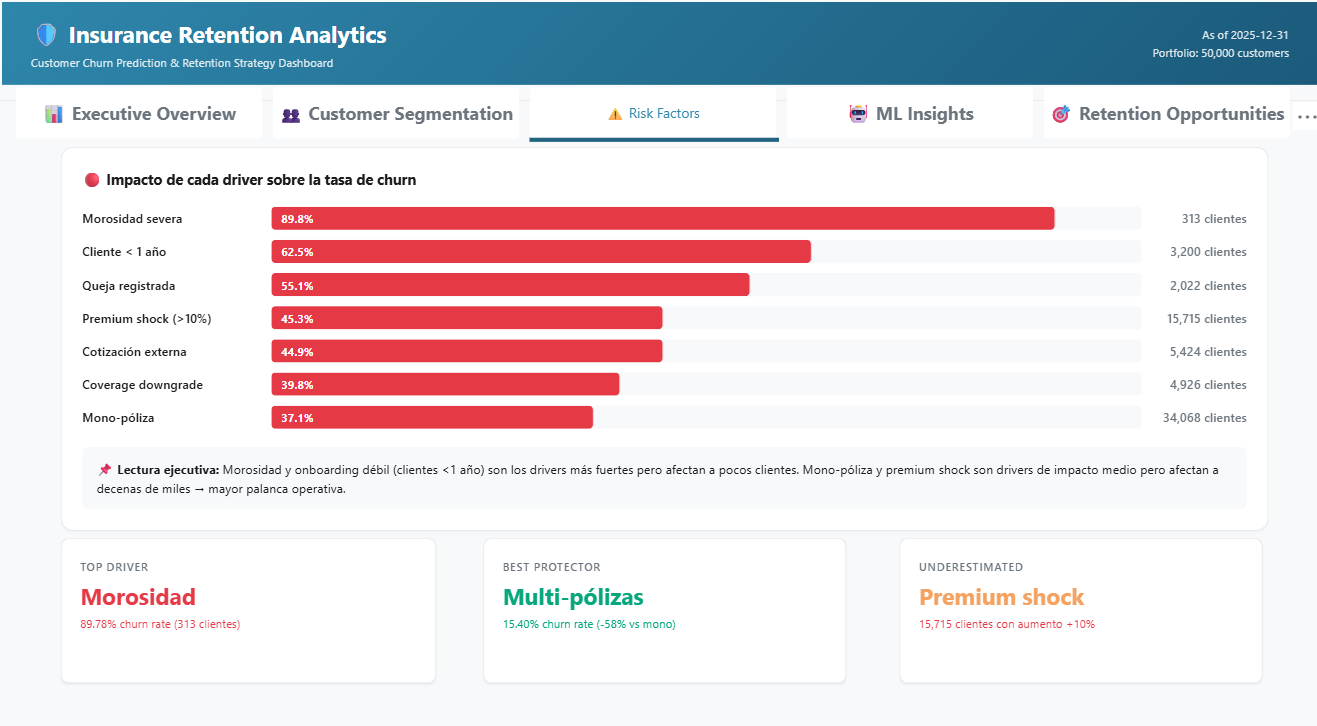

This screenshot's page, from the dashboard's own definition file:
{"tool":"powerbi","page":{"name":"⚠️ Risk Factors","canvas":[1280,720],"ordinal":2},"visuals":[{"type":"htmlContent443BE3AD55E043BF878BED274D3A6855","fields":{"content":["_Measures.HTML_PageHeader"]},"box":[0,10,1280,100],"z":0},{"type":"pageNavigator","box":[17.8,97,1233.5,50.4],"z":1000},{"type":"shape","box":[514,125,241,44],"z":2000},{"type":"htmlContent443BE3AD55E043BF878BED274D3A6855","fields":{"content":["_Measures.HTML_TopDriver"]},"box":[57,527,372,159],"z":3000},{"type":"htmlContent443BE3AD55E043BF878BED274D3A6855","fields":{"content":["_Measures.HTML_BestProtector"]},"box":[464,527,360,158],"z":4000},{"type":"htmlContent443BE3AD55E043BF878BED274D3A6855","fields":{"content":["_Measures.HTML_UnderestimatedDriver"]},"box":[866,527,360,159],"z":5000},{"type":"htmlContent443BE3AD55E043BF878BED274D3A6855","fields":{"content":["_Measures.HTML_RiskFactorsChart"]},"box":[56.7,150,1175.6,397.8],"z":6000}]}

Visuals, with their boxes in screenshot pixels (x1, y1, x2, y2), scaled from the page's 1280x720 canvas onto the 1317x726 screenshot:
htmlContent443BE3AD55E043BF878BED274D3A6855 - _Measures.HTML_PageHeader: bbox=[0, 10, 1316, 111]
pageNavigator: bbox=[18, 98, 1287, 149]
shape: bbox=[529, 126, 777, 170]
htmlContent443BE3AD55E043BF878BED274D3A6855 - _Measures.HTML_TopDriver: bbox=[59, 531, 441, 692]
htmlContent443BE3AD55E043BF878BED274D3A6855 - _Measures.HTML_BestProtector: bbox=[477, 531, 848, 691]
htmlContent443BE3AD55E043BF878BED274D3A6855 - _Measures.HTML_UnderestimatedDriver: bbox=[891, 531, 1261, 692]
htmlContent443BE3AD55E043BF878BED274D3A6855 - _Measures.HTML_RiskFactorsChart: bbox=[58, 151, 1268, 552]
